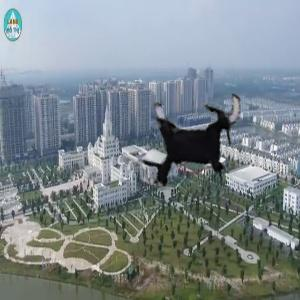drone: (125, 72, 257, 204)
